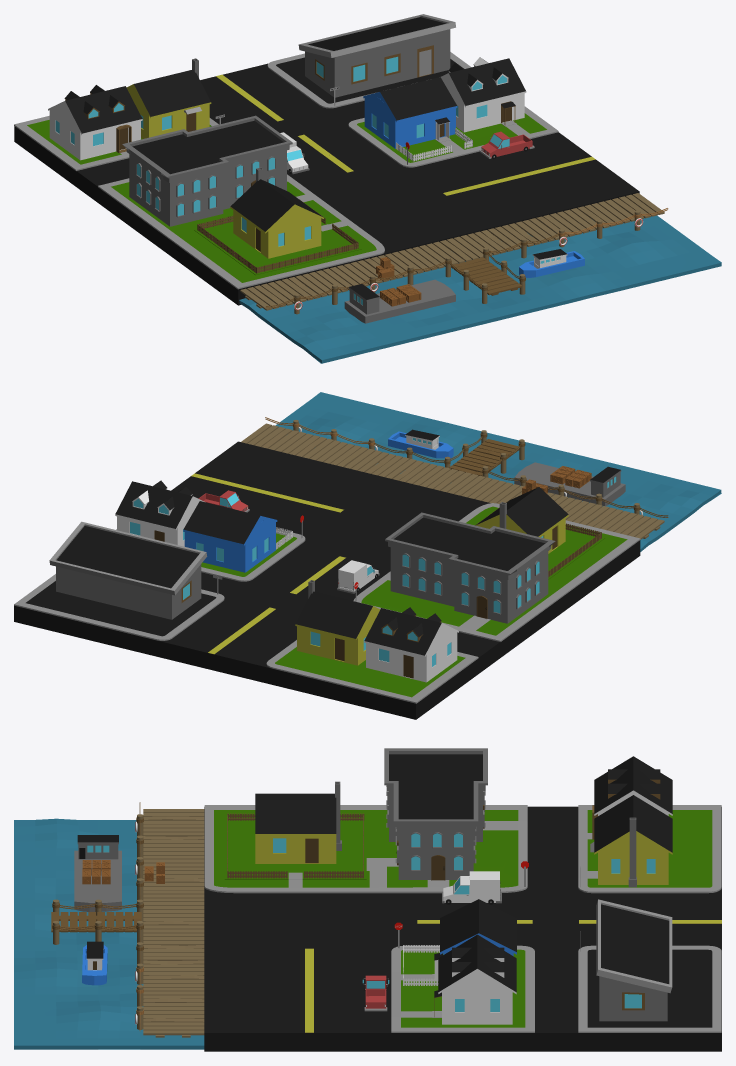
Rendered from city.fbx.
The picture shows the model from 3 angles, top to bottom: view 1: azimuth 30°, elevation 25°; view 2: azimuth 150°, elevation 25°; view 3: azimuth 270°, elevation 25°; orthographic projection. The views are drawn at different scales.
Parts seen in each view (by area): view 1: Cube.001; view 2: Cube.001; view 3: Cube.001.
Boxes of the visible parts, box(x1,y1,x2,y2) form: Cube.001: box(14, 14, 721, 363); Cube.001: box(14, 392, 721, 719); Cube.001: box(14, 748, 721, 1051).
Bounding box in the file's own units: 3051 × 555 × 4020.
